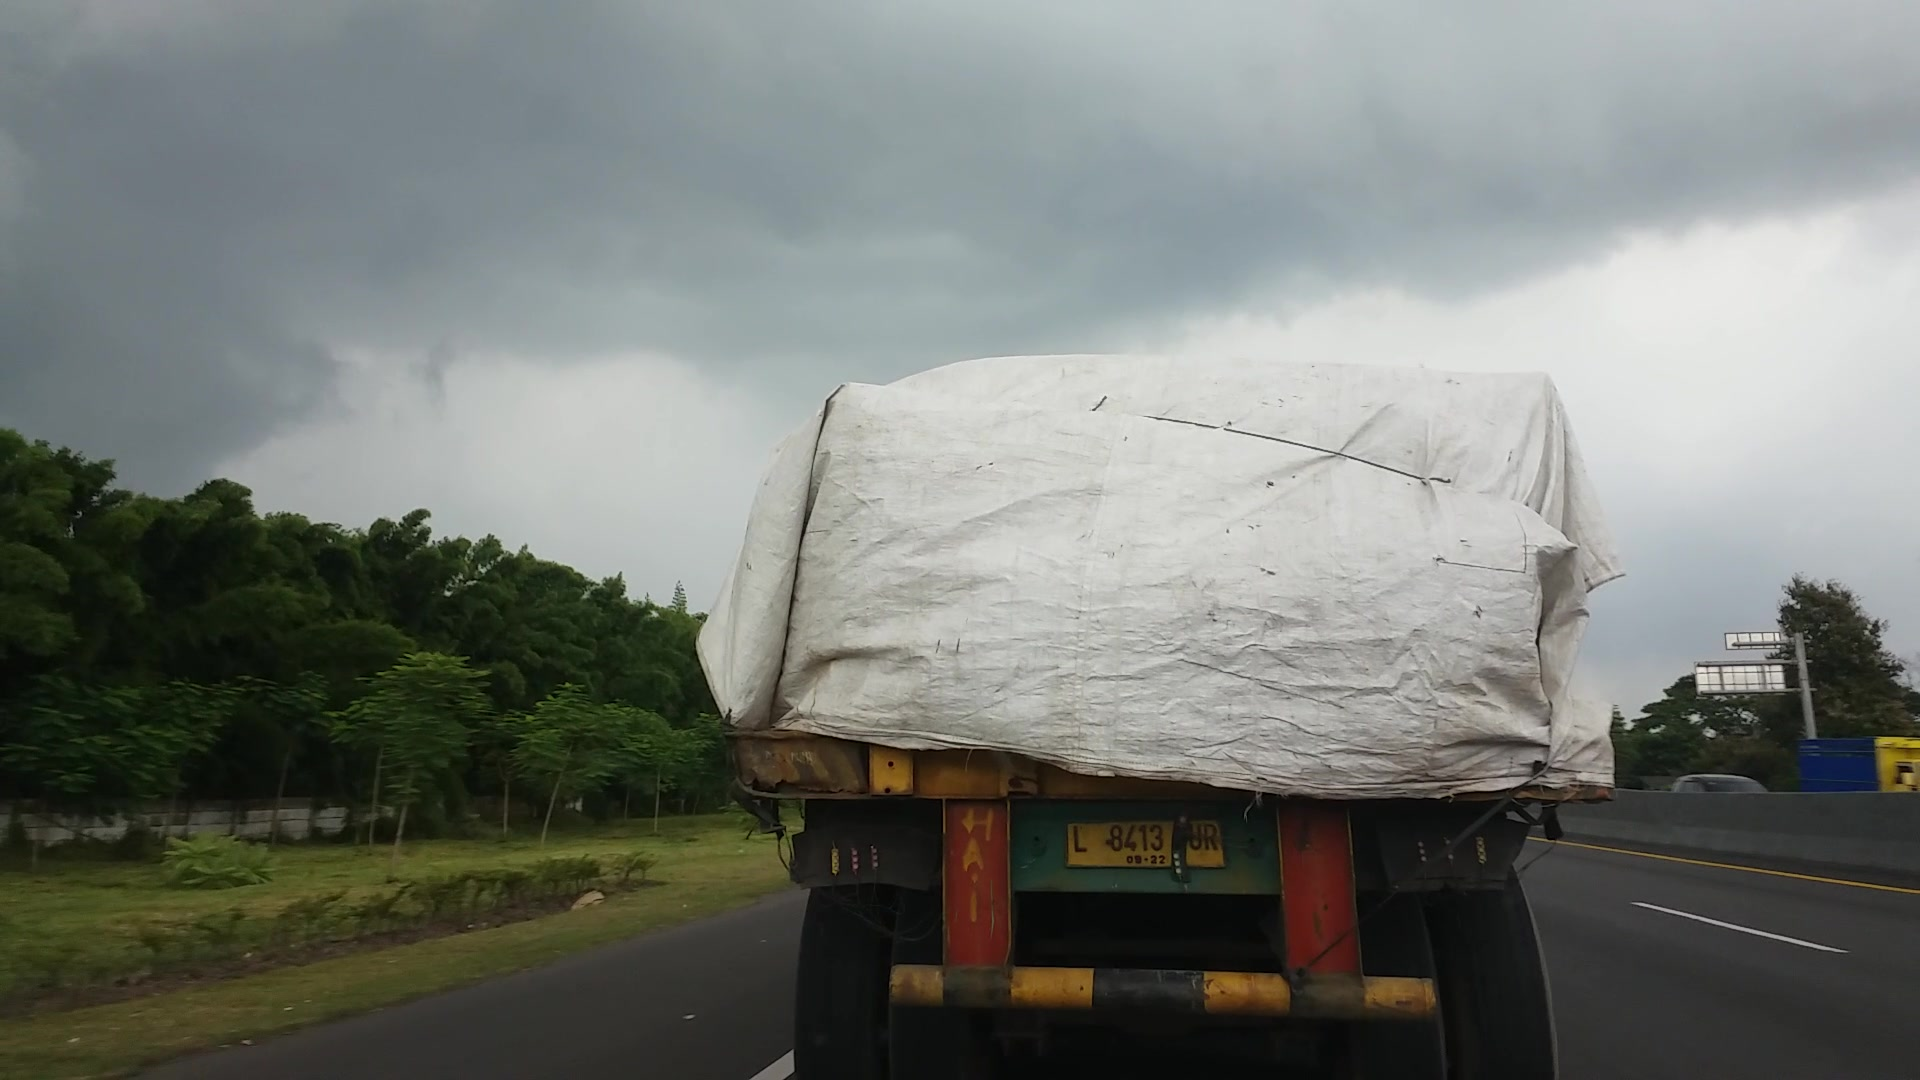plate_positive: (1065, 820, 1224, 869)
